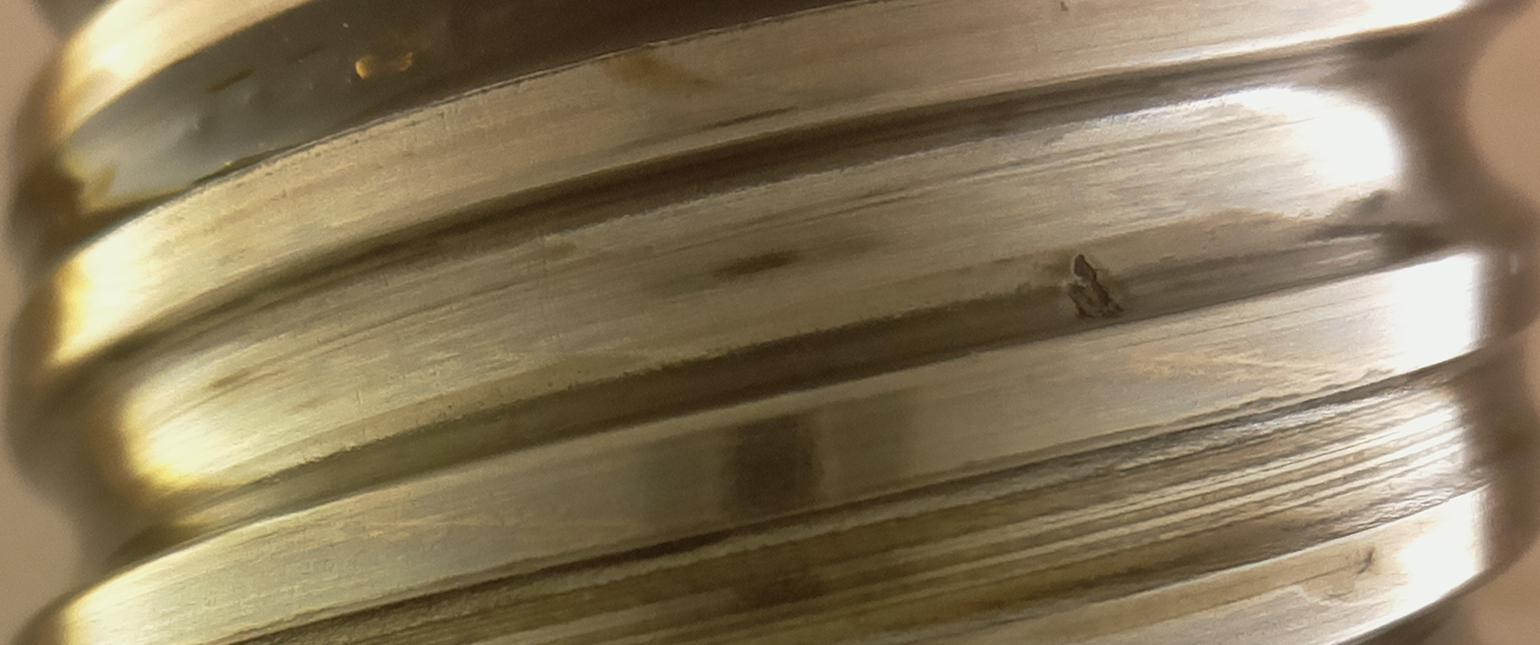pitting: (1069, 254, 1124, 318)
